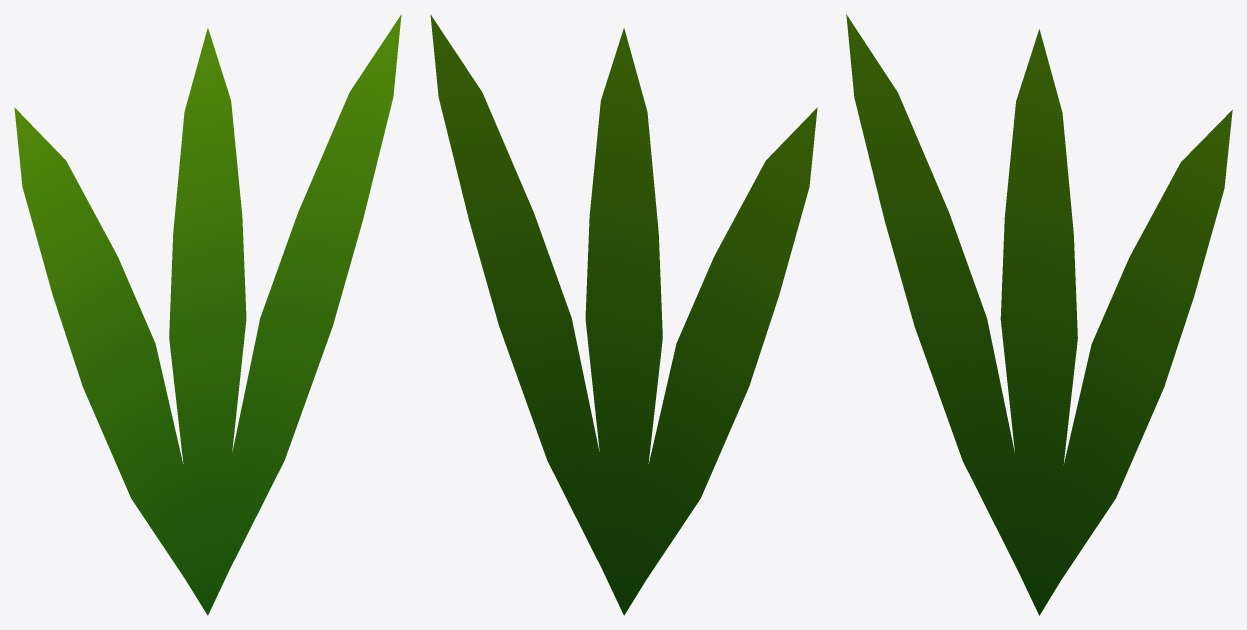
File: grass_2.fbx
3 views of the same model, side by side, from view 1: azimuth 30°, elevation 25°; view 2: azimuth 150°, elevation 25°; view 3: azimuth 330°, elevation 25° (orthographic).
Parts seen in each view (by area): view 1: grass_2; view 2: grass_2; view 3: grass_2.
Part boxes in pixels (box(x1,y1,x2,y2)): grass_2: box(14, 14, 401, 615); grass_2: box(430, 14, 817, 615); grass_2: box(846, 14, 1232, 615).
Size of the model in its own units: 0.3984 by 0.5788 by 4.77e-07.
